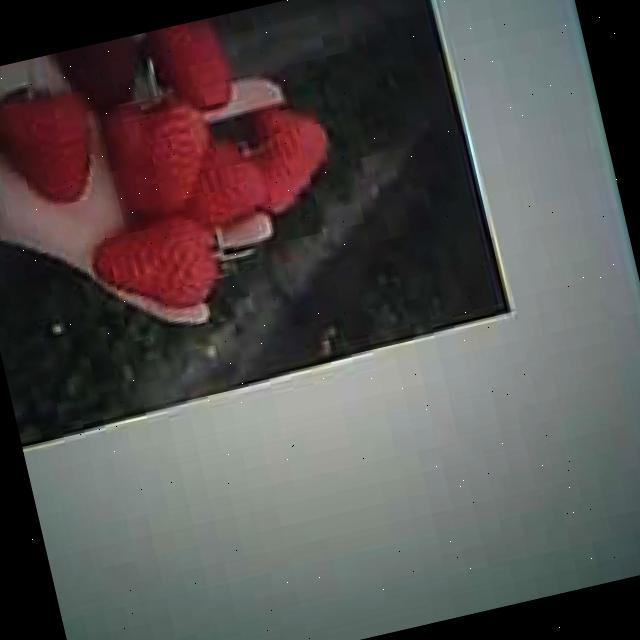strawberry: (92, 91, 222, 229), (86, 212, 224, 324), (0, 80, 106, 211)
